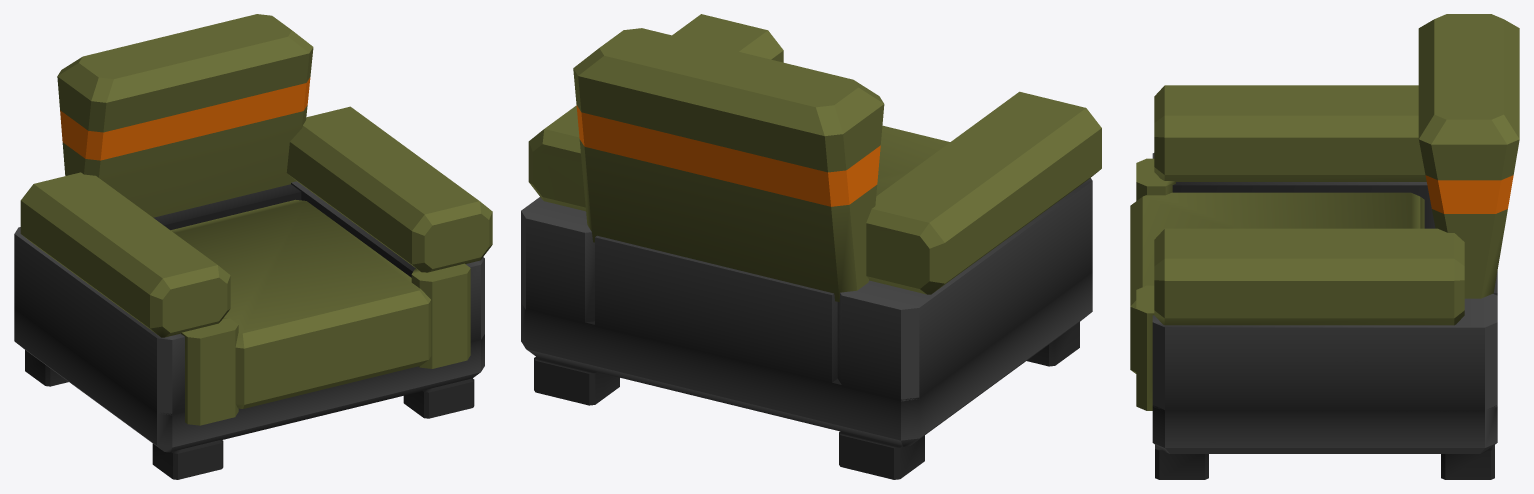
The model's file is armchair.glb.
The picture shows the model from 3 angles, left to right: view 1: azimuth 30°, elevation 25°; view 2: azimuth 150°, elevation 25°; view 3: azimuth 270°, elevation 25°; orthographic projection. The views are drawn at different scales.
Parts seen in each view (by area): view 1: armchair; view 2: armchair; view 3: armchair.
Boxes of the visible parts, left/top/right/bottom form: armchair: left=14, top=14, right=492, bottom=479; armchair: left=521, top=14, right=1101, bottom=479; armchair: left=1130, top=14, right=1519, bottom=479.
Bounding box in the file's own units: 1.07 × 0.88 × 0.9396.
1 material, 1 textured.
